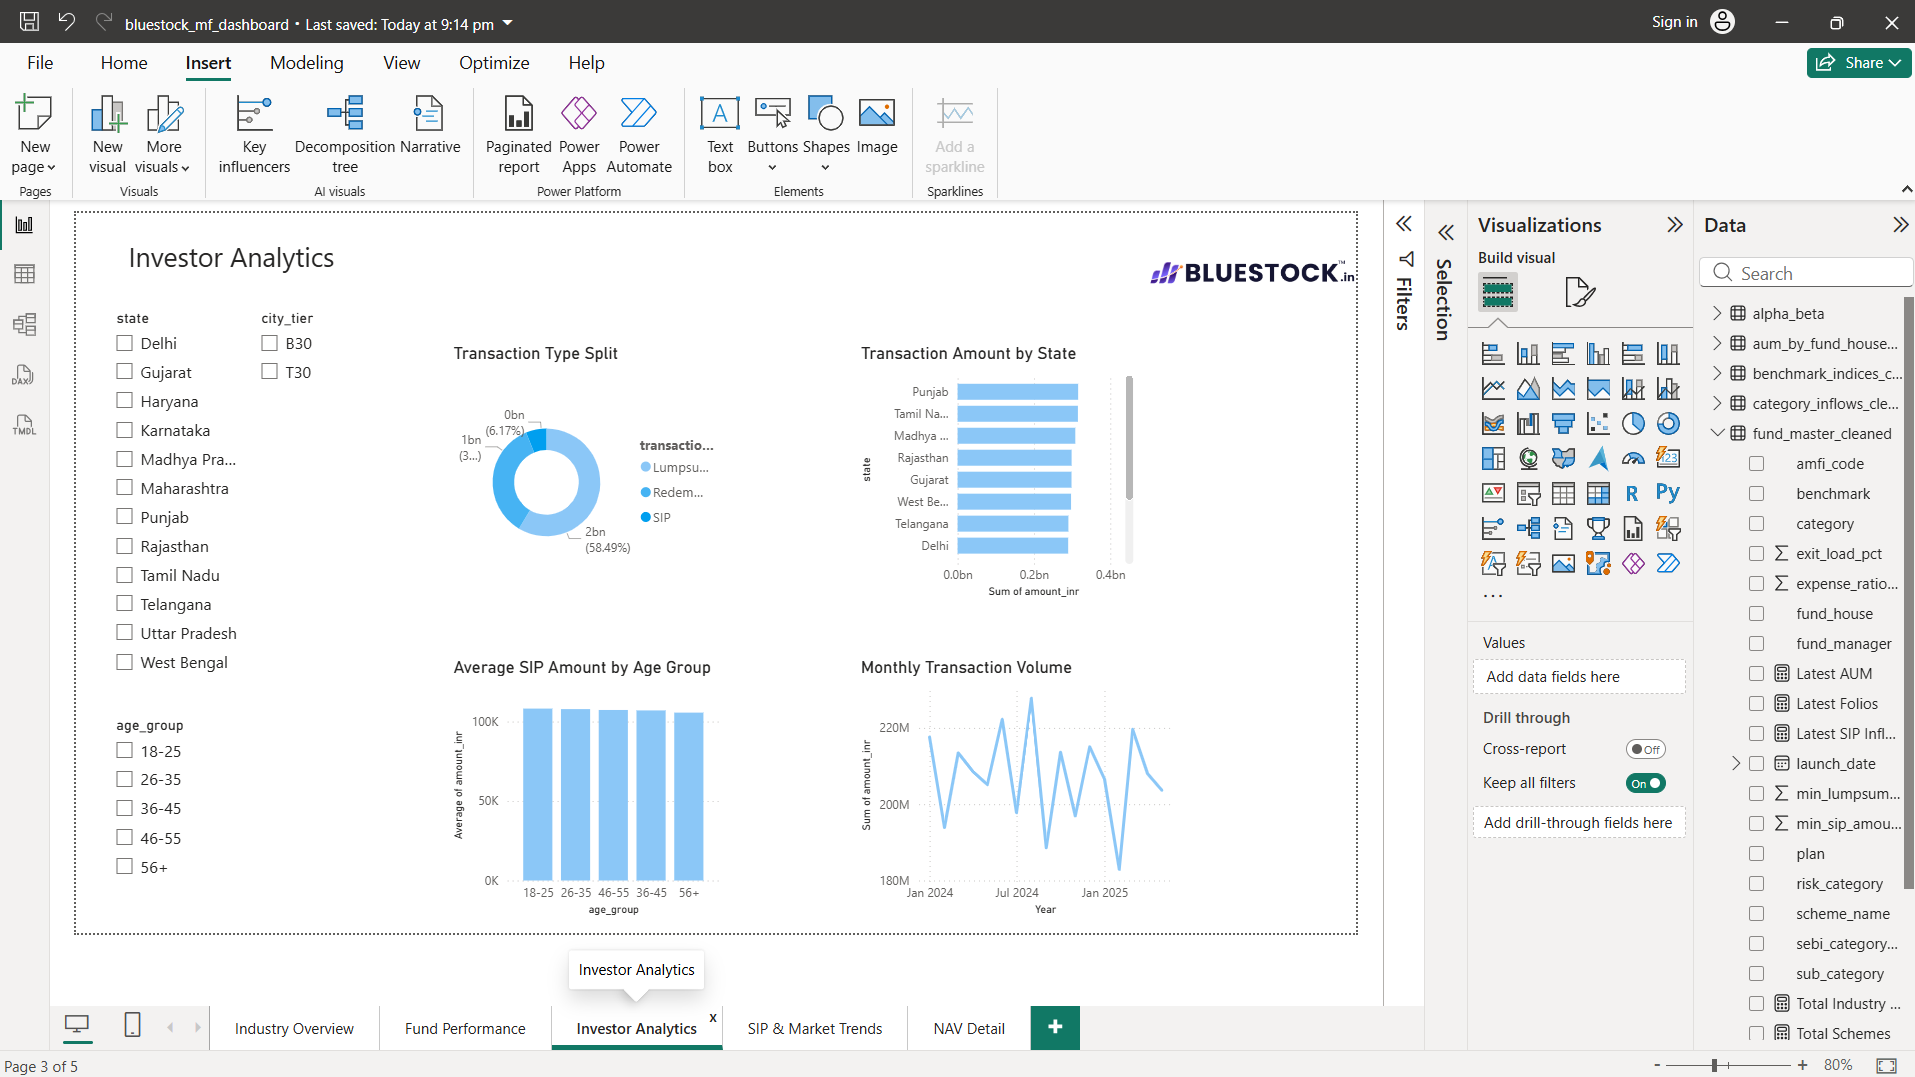

What the dashboard file says about the page in this screenshot:
{"tool":"powerbi","page":{"name":"Investor Analytics","canvas":[1280,720],"ordinal":2},"visuals":[{"type":"clusteredBarChart","title":"Transaction Amount by State","fields":{"Category":["investor_transactions_cleaned.state"],"Y":["Sum(investor_transactions_cleaned.amount_inr)"]},"box":[780,130,282.5,260],"z":0},{"type":"donutChart","title":"Transaction Type Split","fields":{"Category":["investor_transactions_cleaned.transaction_type"],"Y":["Sum(investor_transactions_cleaned.amount_inr)"]},"box":[372.5,130,276.2,260],"z":1000},{"type":"clusteredColumnChart","title":"Average SIP Amount by Age Group","fields":{"Category":["investor_transactions_cleaned.age_group"],"Y":["Avg(investor_transactions_cleaned.amount_inr)"]},"box":[372.5,443.8,276.2,263.8],"z":2000},{"type":"lineChart","title":"Monthly Transaction Volume","fields":{"Y":["Sum(investor_transactions_cleaned.amount_inr)"],"Category":["investor_transactions_cleaned.transaction_date.Variation.Date Hierarchy.Year","investor_transactions_cleaned.transaction_date.Variation.Date Hierarchy.Month"]},"box":[780,443.8,335,263.8],"z":3000},{"type":"slicer","fields":{"Values":["investor_transactions_cleaned.state"]},"box":[27.5,91.2,145,400],"z":4000},{"type":"slicer","fields":{"Values":["investor_transactions_cleaned.age_group"]},"box":[27.5,498.8,151.2,187.5],"z":5000},{"type":"slicer","fields":{"Values":["investor_transactions_cleaned.city_tier"]},"box":[172.5,91.2,91.2,118.8],"z":6000},{"type":"image","box":[1073.8,0,206.2,117.5],"z":7000},{"type":"textbox","box":[47.5,20,248.8,51.2],"z":7001}]}

Visuals, with their boxes on the page's 1280x720 design canvas (x1, y1, x2, y2). These are canvas units, not pixel positions in the 1915x1077 screenshot, which may show the page scaled, cropped or inside an application window:
"Transaction Amount by State" clusteredBarChart: <bbox>780, 130, 1062, 390</bbox>
"Transaction Type Split" donutChart: <bbox>372, 130, 649, 390</bbox>
"Average SIP Amount by Age Group" clusteredColumnChart: <bbox>372, 444, 649, 708</bbox>
"Monthly Transaction Volume" lineChart: <bbox>780, 444, 1115, 708</bbox>
slicer - investor_transactions_cleaned.state: <bbox>28, 91, 172, 491</bbox>
slicer - investor_transactions_cleaned.age_group: <bbox>28, 499, 179, 686</bbox>
slicer - investor_transactions_cleaned.city_tier: <bbox>172, 91, 264, 210</bbox>
image: <bbox>1074, 0, 1280, 118</bbox>
textbox: <bbox>48, 20, 296, 71</bbox>
